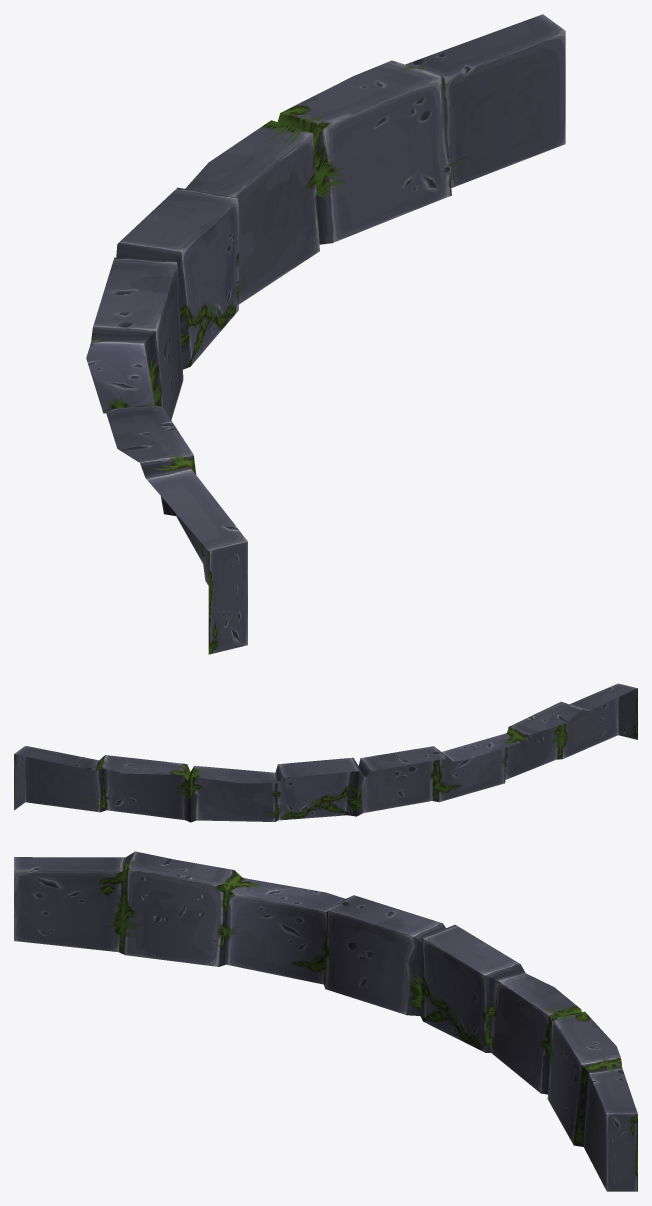
Rendered from MOD_WallTrim_01_O_concave.fbx.
3 views of the same model, one above another, from view 1: azimuth 30°, elevation 25°; view 2: azimuth 150°, elevation 25°; view 3: azimuth 270°, elevation 25° (orthographic). The views are drawn at different scales.
Visible parts, largest first — view 1: MOD_WallTrim_01_O_concave; view 2: MOD_WallTrim_01_O_concave; view 3: MOD_WallTrim_01_O_concave.
Boxes of the visible parts, x1,y1,x2,y2 form: MOD_WallTrim_01_O_concave: (86,14,565,654); MOD_WallTrim_01_O_concave: (14,683,637,822); MOD_WallTrim_01_O_concave: (14,851,637,1191).
Size of what is drawn, in the model's own units: 400 by 58.8 by 400.
